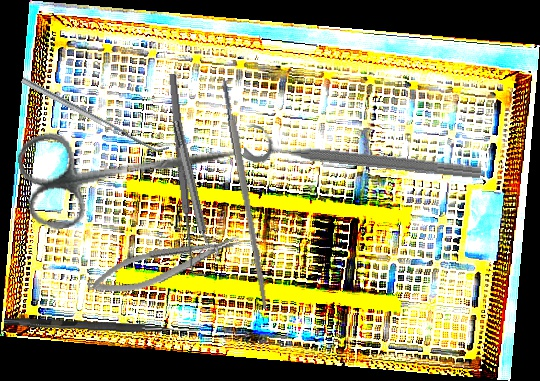Fixation Ring: (242, 121, 484, 187), (166, 118, 221, 261)
Hook Surgical: (165, 72, 207, 278), (3, 317, 201, 335)
Iris Scissors: (14, 100, 246, 235)
Needle Holder: (83, 228, 246, 302)
Scalpel Handle: (220, 78, 271, 310)
Spatula Surgical: (20, 71, 170, 159)
